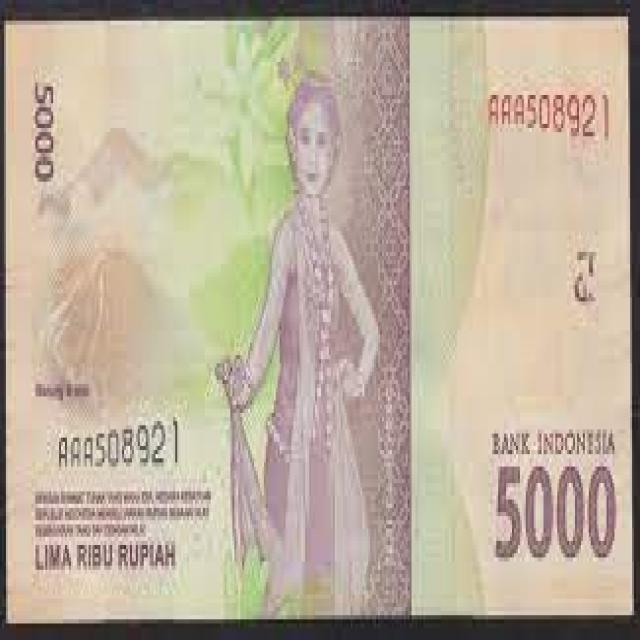lima ribu rupiah: (3, 10, 640, 640)
